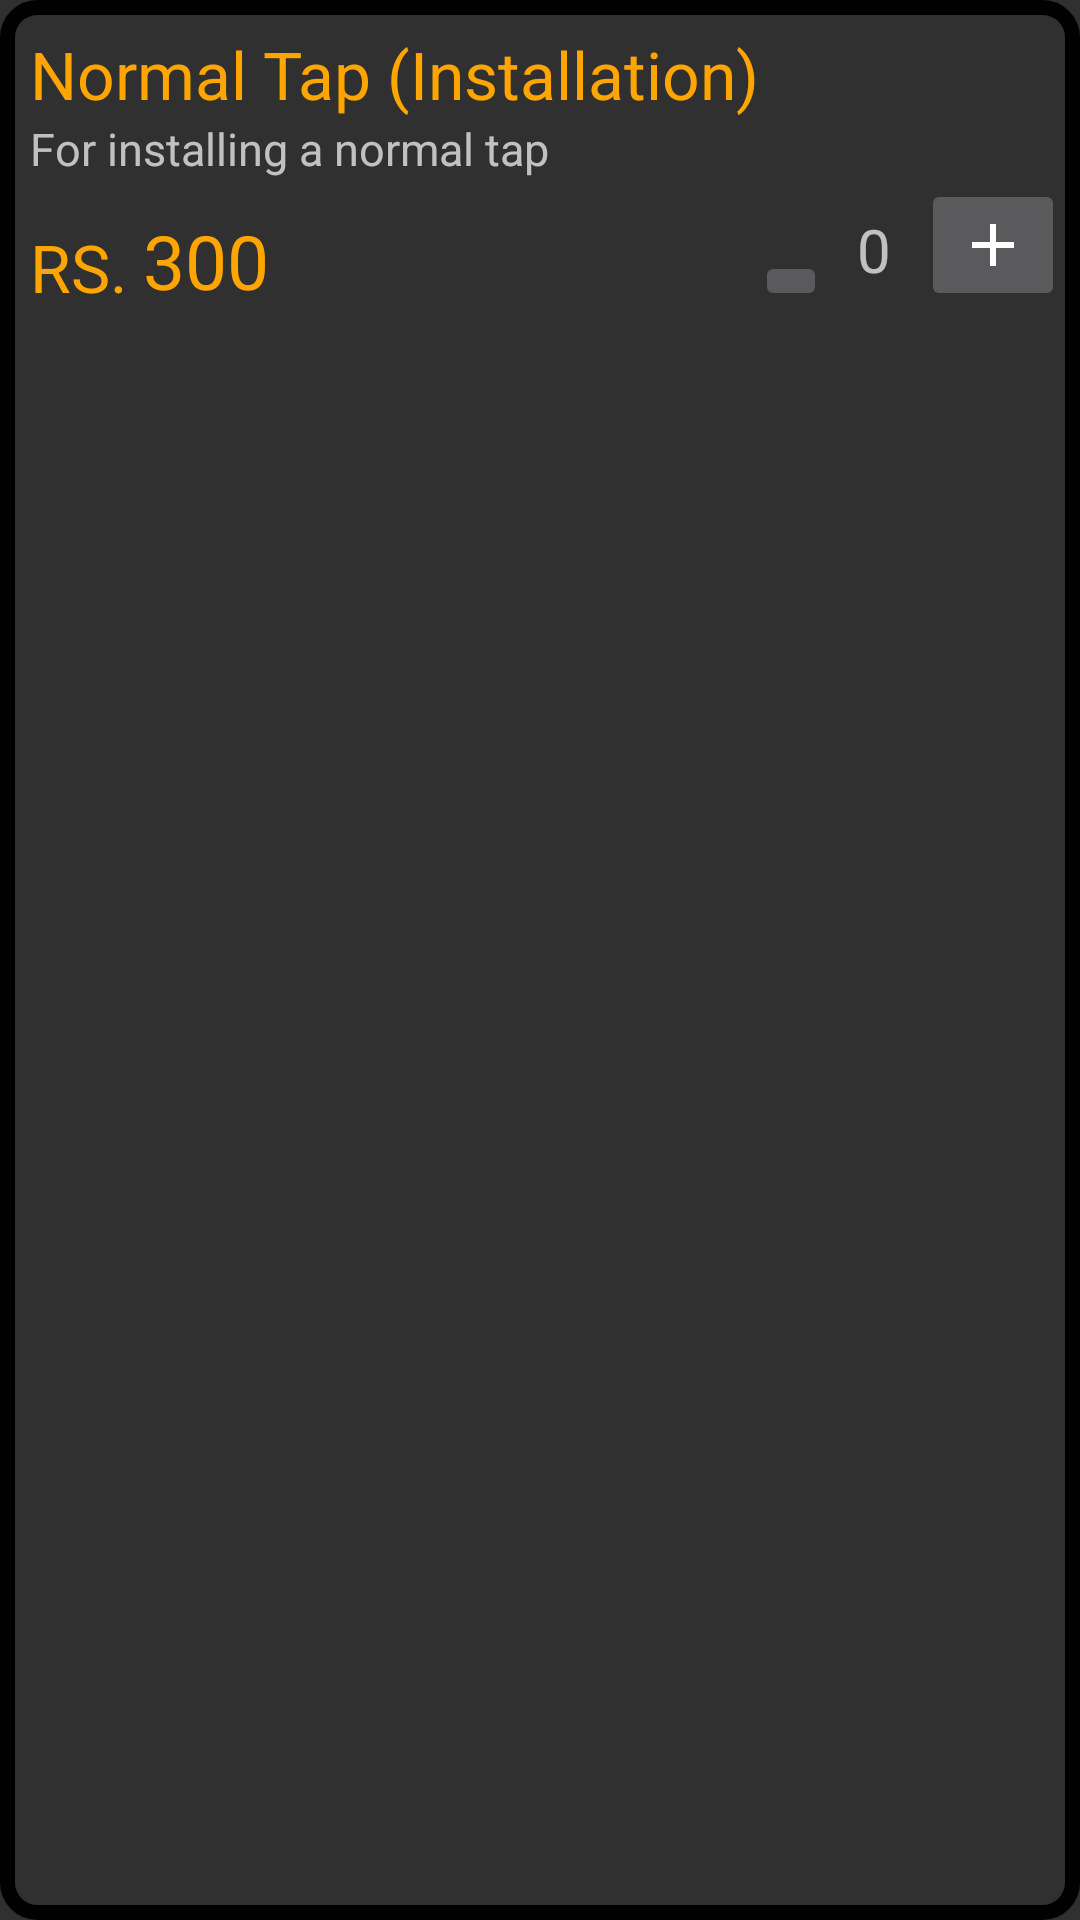

Locate icon controls on the screen. Image size 1080 × 1920, boxes as (x1, y1, x2, y2).
add: (933, 197, 1053, 293)
